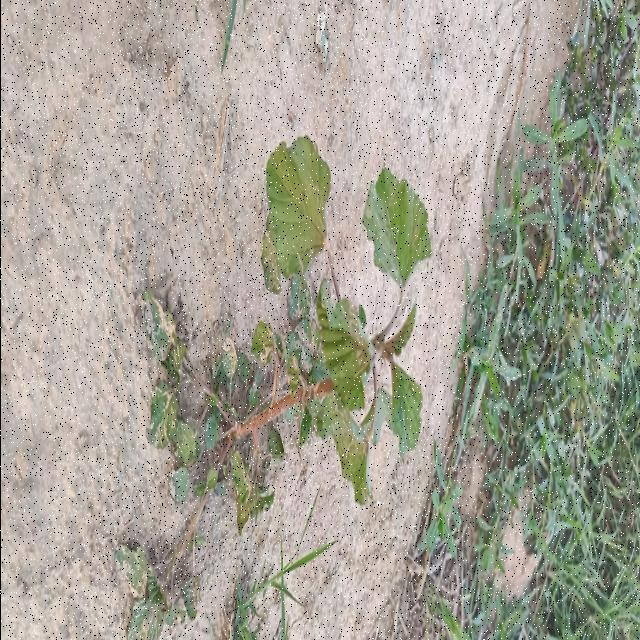weed: (114, 138, 430, 640), (127, 171, 430, 640), (166, 171, 430, 583), (261, 137, 329, 330), (261, 138, 329, 292), (143, 302, 180, 381), (149, 421, 155, 429)
